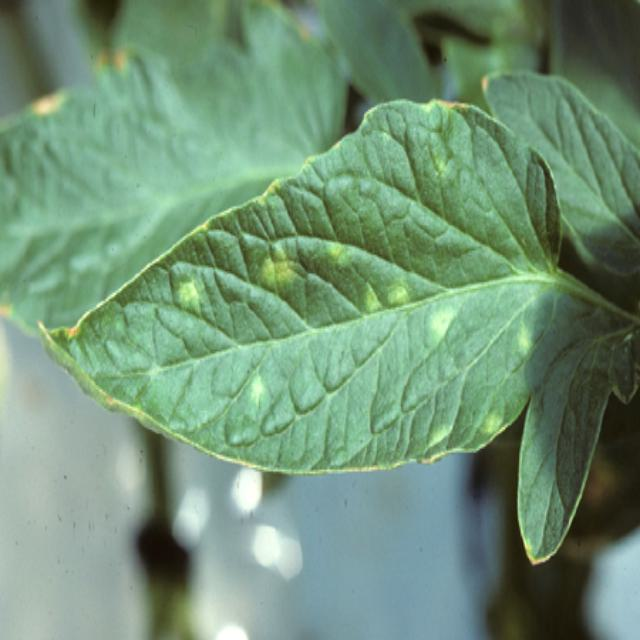Leaf_Mold: (347, 275, 409, 316), (251, 247, 300, 291), (423, 302, 460, 338), (170, 279, 207, 307), (511, 322, 537, 354)
